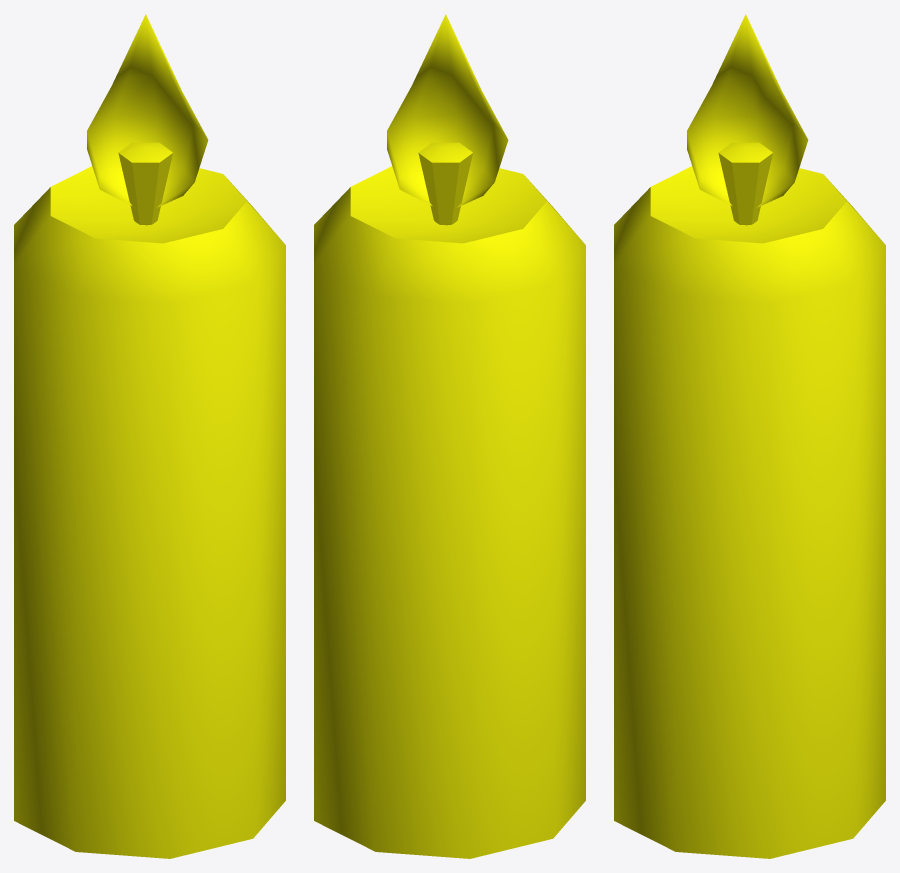
Rendered from kaykit-candle-lit.glb.
3 renders of one model, left to right at view 1: azimuth 30°, elevation 25°; view 2: azimuth 150°, elevation 25°; view 3: azimuth 270°, elevation 25°, orthographic.
Parts seen in each view (by area): view 1: candle_lit; view 2: candle_lit; view 3: candle_lit.
Boxes of the visible parts, x1,y1,x2,y2 form: candle_lit: [14, 14, 285, 858]; candle_lit: [314, 14, 585, 858]; candle_lit: [614, 14, 885, 858].
Bounding box in the file's own units: 0.3344 × 1.05 × 0.3293.
